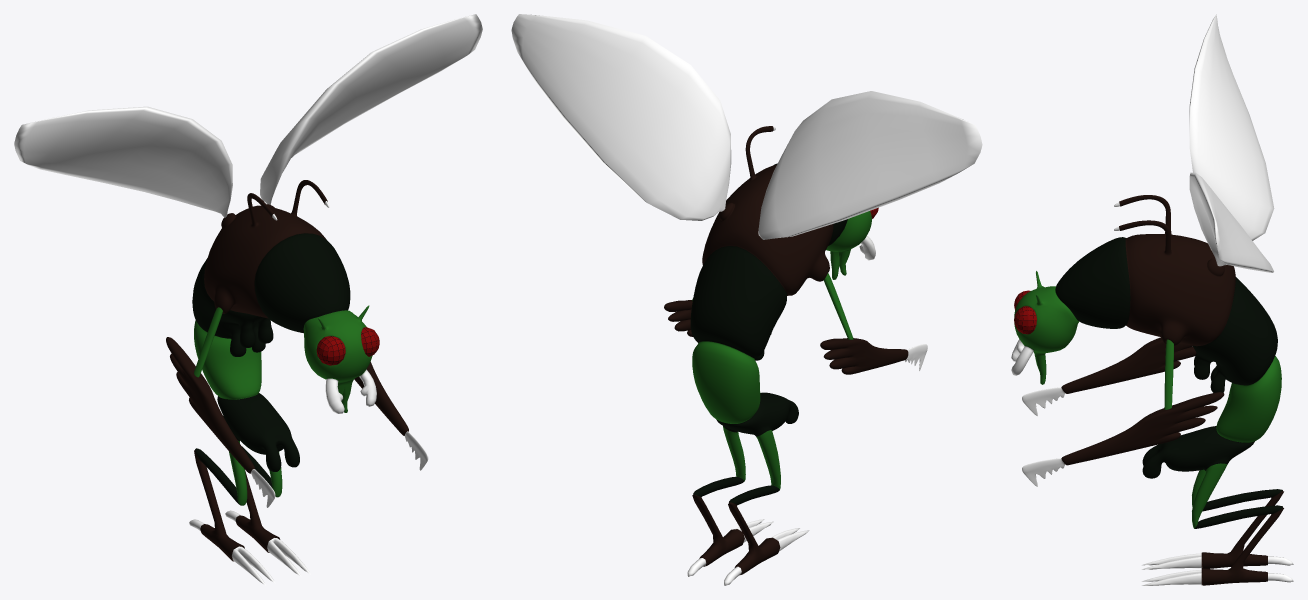
The model's file is moscarsio.obj.
The picture shows the model from 3 angles, left to right: view 1: azimuth 30°, elevation 25°; view 2: azimuth 150°, elevation 25°; view 3: azimuth 270°, elevation 25°; orthographic projection. The views are drawn at different scales.
Visible parts, largest first — view 1: cuerpo polySurface2, polySurface5; view 2: cuerpo polySurface2; view 3: cuerpo polySurface2, polySurface5.
Part boxes in pixels (box(x1,y1,x2,y2)): cuerpo polySurface2: box(14, 14, 482, 585); polySurface5: box(316, 327, 379, 365); cuerpo polySurface2: box(511, 14, 982, 585); cuerpo polySurface2: box(1011, 14, 1293, 585); polySurface5: box(1014, 290, 1036, 334).
Bounding box in the file's own units: 15.59 × 15.49 × 8.59.
